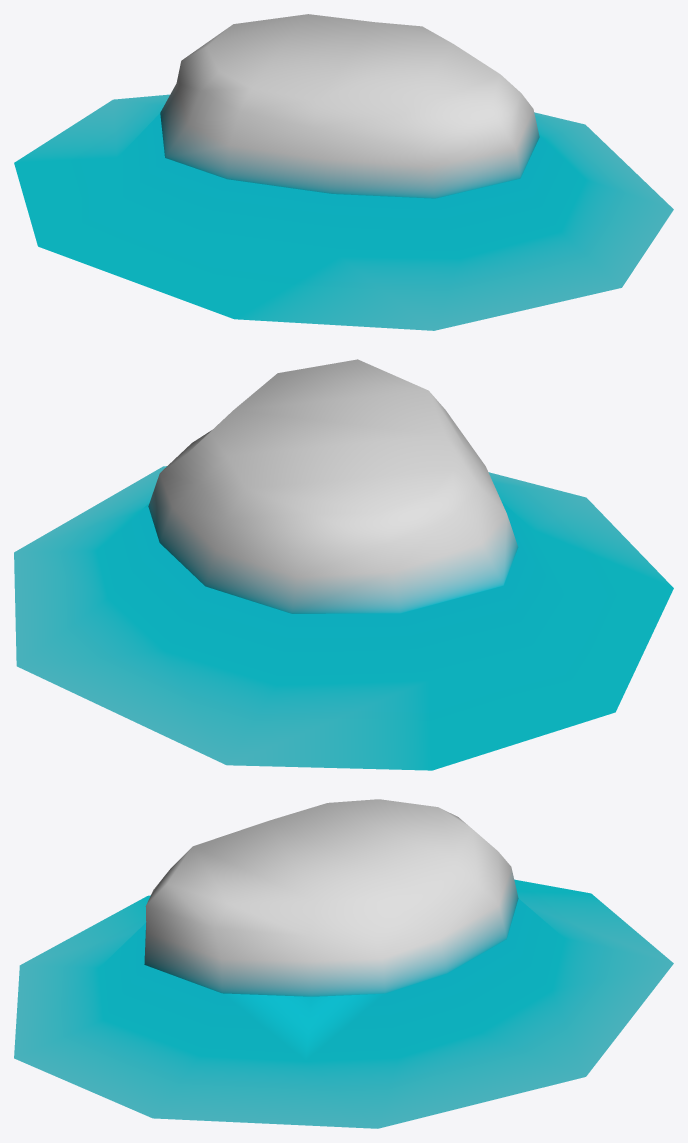
File: Side-forest-water_island_01.glb
The picture shows the model from 3 angles, top to bottom: view 1: azimuth 30°, elevation 25°; view 2: azimuth 150°, elevation 25°; view 3: azimuth 270°, elevation 25°; orthographic projection. The views are drawn at different scales.
Parts seen in each view (by area): view 1: Side-forest-water_island_01; view 2: Side-forest-water_island_01; view 3: Side-forest-water_island_01.
Boxes of the visible parts, <box> form: Side-forest-water_island_01: <box>14,14,673,330</box>; Side-forest-water_island_01: <box>14,359,673,770</box>; Side-forest-water_island_01: <box>14,799,673,1128</box>.
Bounding box in the file's own units: 19.37 × 4.89 × 20.05.
